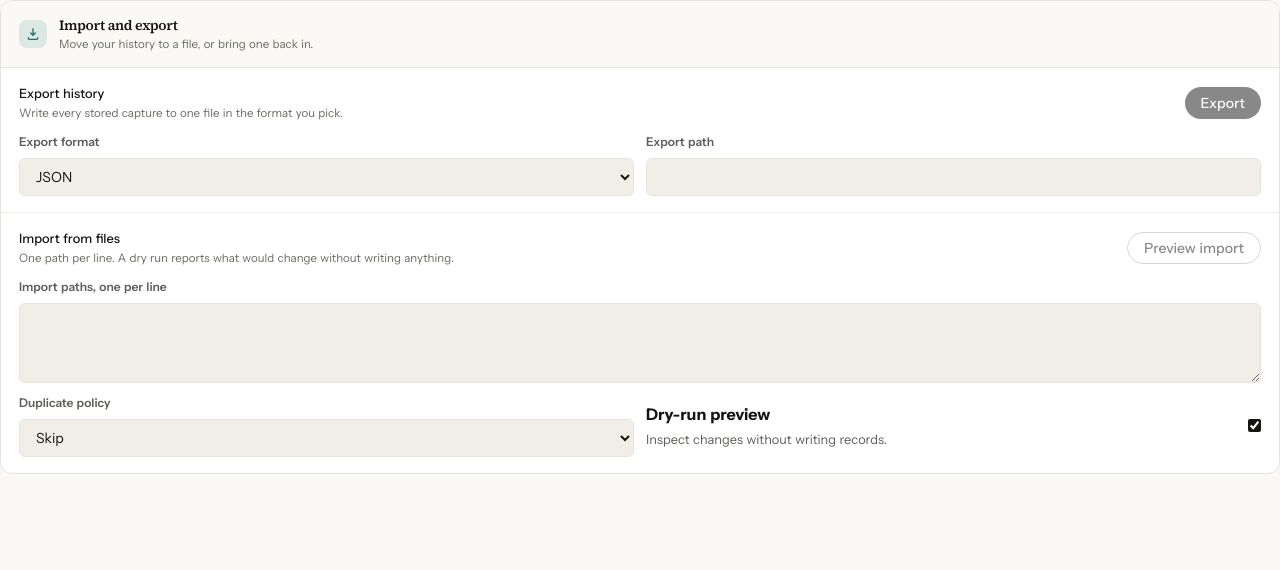
it: TransferPanel › exports to the selected path and reports warnings
The width and height of the screenshot is (1280, 570).
Type "D:/out.json" into the field labelled "Export path" at {"x": 954, "y": 177}, box [646, 158, 1261, 196]
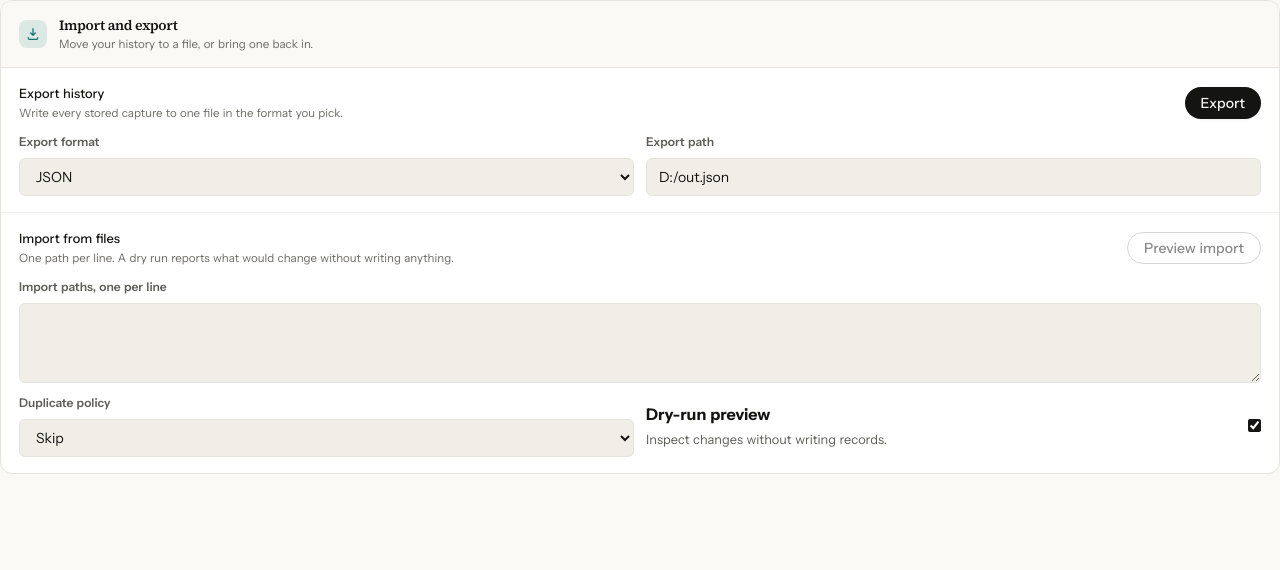
Click the button "Export" at {"x": 1223, "y": 103}, box [1185, 87, 1261, 119]
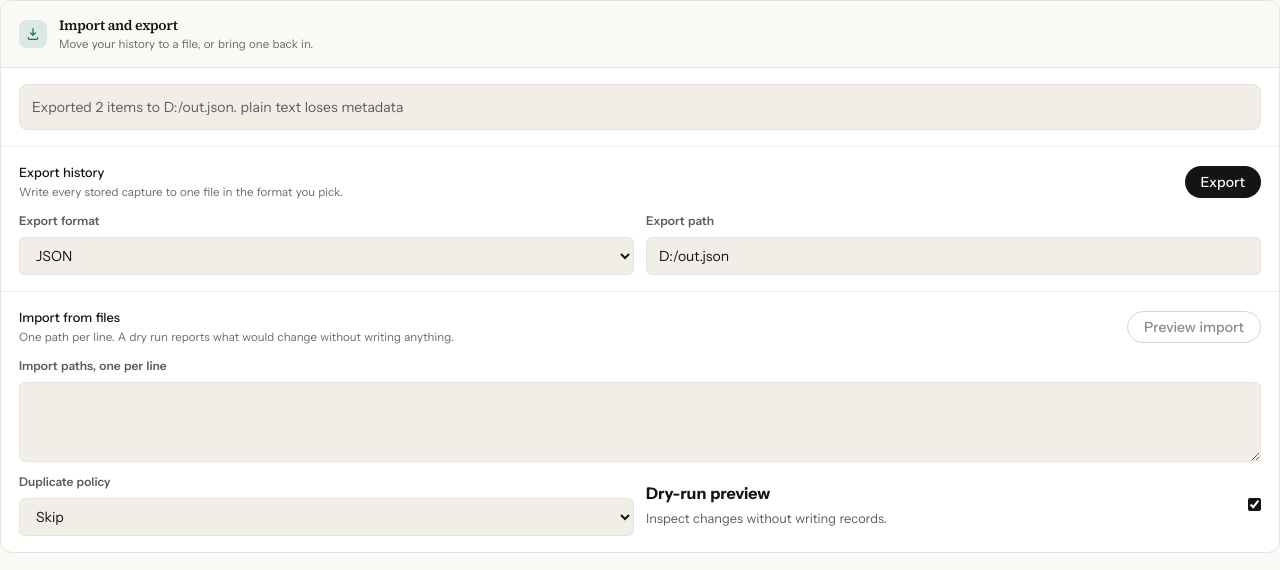
Now the text "Exported 2 items to D:/out.json. plain text loses metadata" is shown, box [19, 84, 1261, 130]
